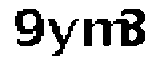3: (129, 4, 151, 52)
9: (9, 5, 46, 51)
m: (80, 18, 131, 49)
y: (47, 15, 78, 60)
